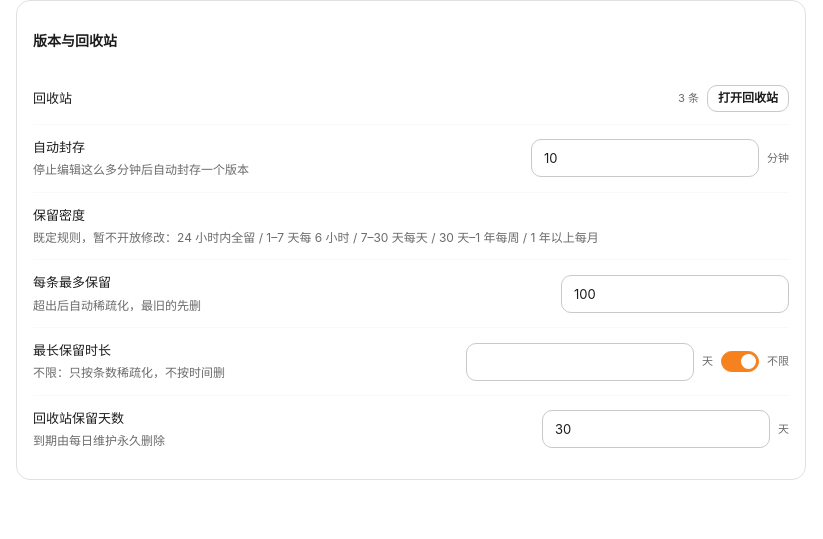
Test case: 策略设置项 › 每条最多保留：越界就地报错且**不写进设置**
Replace the text in the field named "每条最多保留（版本数）" with "9": point(675, 294) [561,275,789,313]
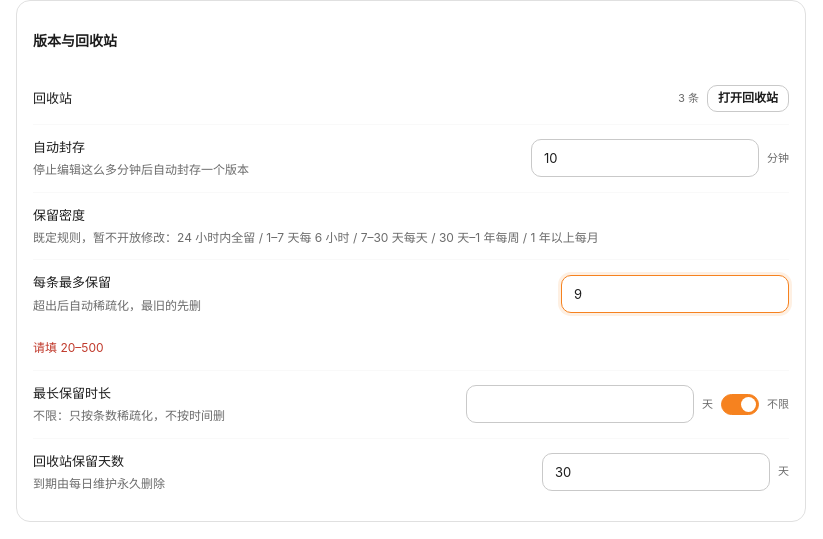
Now the text "请填 20–500" is shown, box [33,340,104,355]
